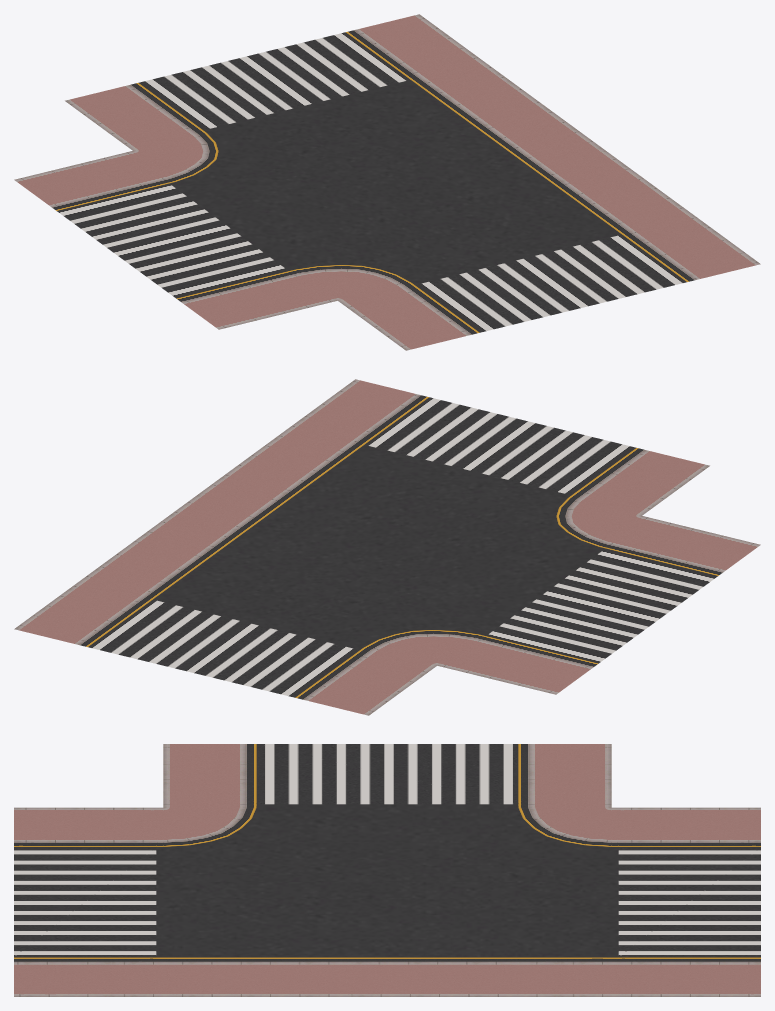
Rendered from jy_daolu02.FBX.
The picture shows the model from 3 angles, top to bottom: view 1: azimuth 30°, elevation 25°; view 2: azimuth 150°, elevation 25°; view 3: azimuth 270°, elevation 25°; orthographic projection. The views are drawn at different scales.
Visible parts, largest first — view 1: jy_daolu02; view 2: jy_daolu02; view 3: jy_daolu02.
Part boxes in pixels (<box>): jy_daolu02: <box>14,14,760,350</box>; jy_daolu02: <box>14,379,760,715</box>; jy_daolu02: <box>14,744,760,996</box>.
Size of the model in its own units: 3482 by 0.00113 by 4347.
